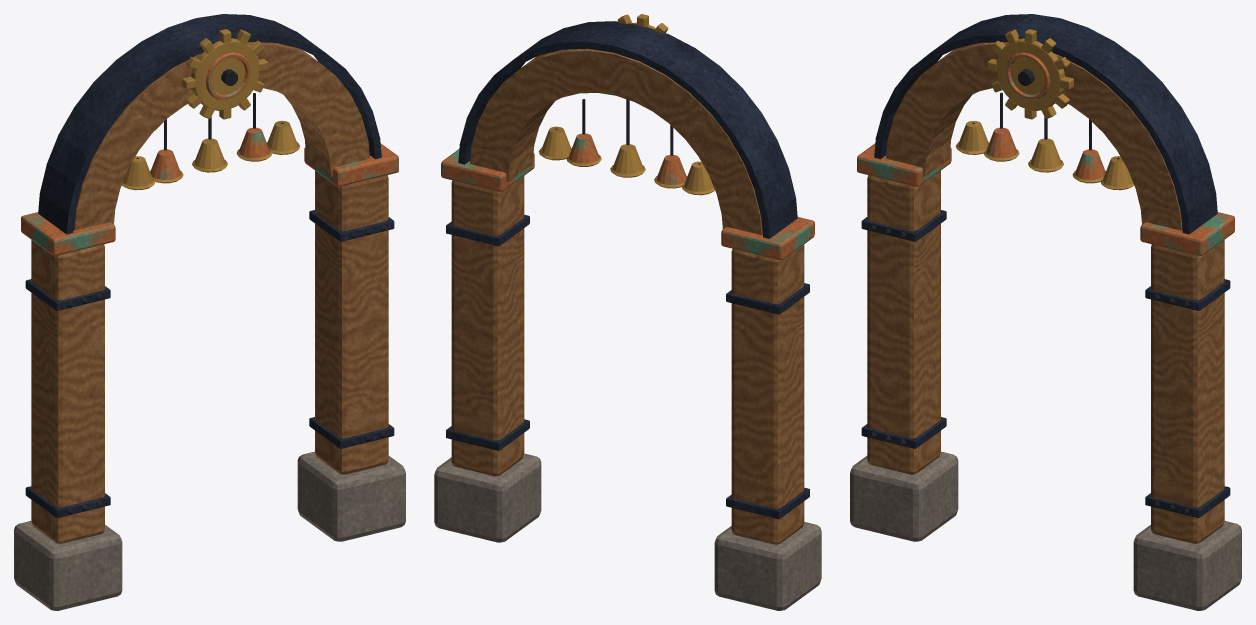
The model's file is fair_gate.glb.
The picture shows the model from 3 angles, left to right: view 1: azimuth 30°, elevation 25°; view 2: azimuth 150°, elevation 25°; view 3: azimuth 330°, elevation 25°; orthographic projection.
Visible parts, largest first — view 1: Fair_Post_1, Fair_Post_-1, Fair_Arch, Fair_ArchIron, Fair_Plinth_1, Fair_Plinth_-1, Fair_Rosette, Fair_Cap_-1, Fair_Cap_1, Fair_Band_1_0.55, Fair_Band_1_1.75, Fair_Band_-1_0.55 (+7 smaller); view 2: Fair_Post_1, Fair_Post_-1, Fair_Arch, Fair_ArchIron, Fair_Plinth_1, Fair_Plinth_-1, Fair_Cap_-1, Fair_Cap_1, Fair_Band_-1_0.55, Fair_Band_1_0.55, Fair_Band_1_1.75, Fair_Band_-1_1.75 (+5 smaller); view 3: Fair_Post_-1, Fair_Post_1, Fair_Arch, Fair_ArchIron, Fair_Plinth_-1, Fair_Plinth_1, Fair_Rosette, Fair_Cap_1, Fair_Cap_-1, Fair_Band_-1_0.55, Fair_Band_-1_1.75, Fair_Band_1_0.55 (+7 smaller).
Boxes of the visible parts, box(x1,y1,x2,y2) form: Fair_Post_1: box(315, 171, 388, 474); Fair_Post_-1: box(31, 240, 104, 543); Fair_Arch: box(73, 42, 369, 230); Fair_ArchIron: box(38, 14, 381, 234); Fair_Plinth_1: box(297, 451, 405, 541); Fair_Plinth_-1: box(14, 521, 122, 610); Fair_Rosette: box(191, 38, 259, 110); Fair_Cap_-1: box(21, 212, 115, 255); Fair_Cap_1: box(304, 143, 398, 186); Fair_Band_1_0.55: box(309, 417, 394, 448); Fair_Band_1_1.75: box(309, 210, 394, 241); Fair_Band_-1_0.55: box(25, 486, 110, 517); Fair_Post_1: box(451, 176, 524, 476); Fair_Post_-1: box(731, 244, 804, 544); Fair_Arch: box(470, 48, 762, 235); Fair_ArchIron: box(458, 21, 797, 238); Fair_Plinth_1: box(434, 453, 541, 542); Fair_Plinth_-1: box(714, 522, 821, 610); Fair_Cap_-1: box(721, 217, 814, 260); Fair_Cap_1: box(441, 149, 534, 191); Fair_Band_-1_0.55: box(726, 487, 809, 519); Fair_Band_1_0.55: box(446, 419, 529, 450); Fair_Band_1_1.75: box(446, 214, 529, 246); Fair_Band_-1_1.75: box(726, 283, 809, 314); Fair_Post_-1: box(867, 171, 940, 474); Fair_Post_1: box(1151, 240, 1224, 543); Fair_Arch: box(886, 42, 1182, 230); Fair_ArchIron: box(874, 14, 1217, 234); Fair_Plinth_-1: box(850, 451, 958, 541); Fair_Plinth_1: box(1133, 521, 1241, 610); Fair_Rosette: box(996, 38, 1064, 110); Fair_Cap_1: box(1140, 212, 1234, 255); Fair_Cap_-1: box(857, 143, 951, 186); Fair_Band_-1_0.55: box(861, 417, 946, 448); Fair_Band_-1_1.75: box(861, 210, 946, 241); Fair_Band_1_0.55: box(1145, 486, 1230, 517).
Bounding box in the file's own units: 2.16 × 3.11 × 0.45.
Materials: 6 (6 with a texture image).
